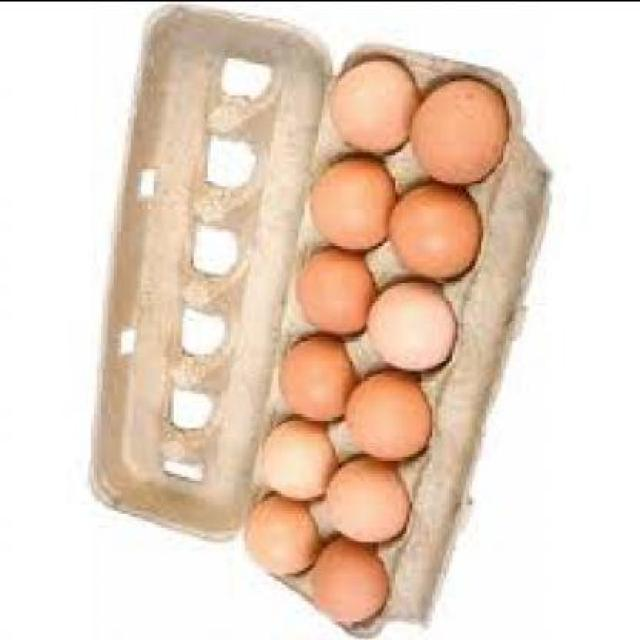BIODEGRADABLE: (407, 77, 505, 185), (384, 182, 481, 284), (324, 60, 416, 157), (362, 282, 452, 376), (304, 156, 390, 253), (341, 370, 430, 461), (273, 333, 356, 427), (293, 242, 373, 338), (242, 494, 322, 580), (324, 458, 407, 540), (304, 537, 378, 626), (259, 421, 327, 507)
CARDBOARD: (238, 48, 552, 640), (83, 8, 332, 547)
